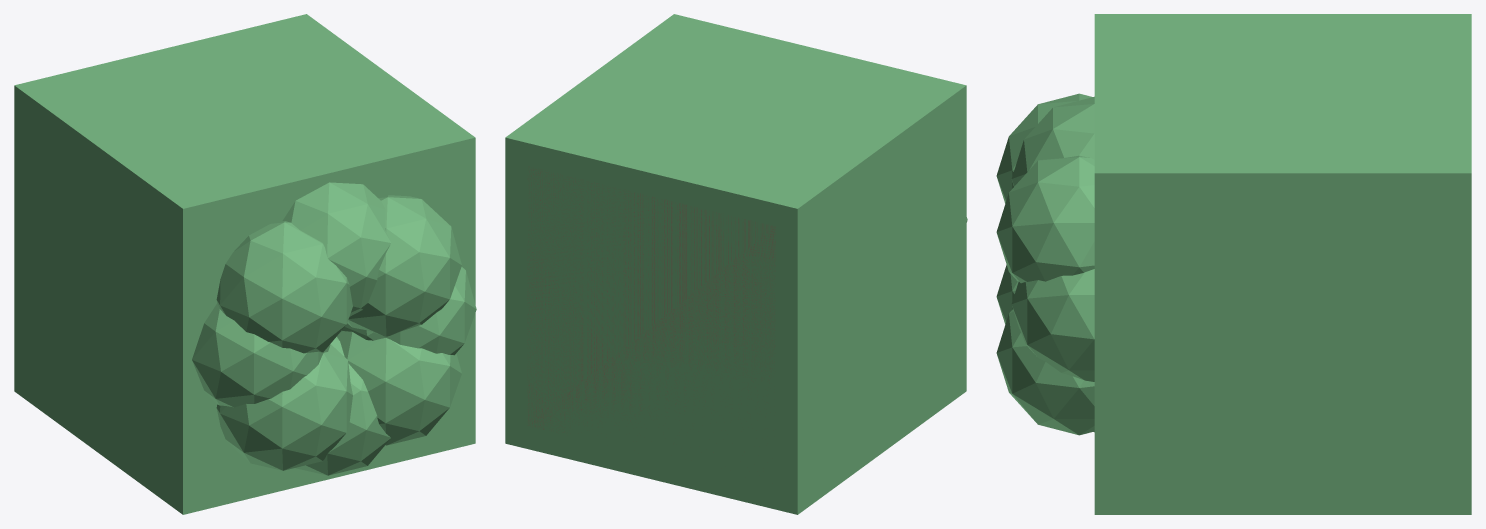
Rendered from 54_whisper_canopy.glb.
3 renders of one model, left to right at view 1: azimuth 30°, elevation 25°; view 2: azimuth 150°, elevation 25°; view 3: azimuth 270°, elevation 25°, orthographic. The views are drawn at different scales.
Visible parts, largest first — view 1: Core, Leaf_3, Leaf_5, Leaf_1, Leaf_7, Leaf_4, Leaf_2, Leaf_6, Leaf_0; view 2: Core, Soil; view 3: Core, Leaf_1, Leaf_0, Leaf_7, Leaf_2, Leaf_3, Leaf_5.
Boxes of the visible parts, x1,y1,x2,y2 form: Core: (14, 14, 475, 514); Leaf_3: (216, 221, 352, 353); Leaf_5: (216, 344, 352, 470); Leaf_1: (347, 195, 461, 336); Leaf_7: (336, 331, 461, 445); Leaf_4: (192, 303, 330, 407); Leaf_2: (282, 182, 390, 316); Leaf_6: (295, 337, 390, 475); Leaf_0: (341, 267, 476, 355); Core: (505, 14, 966, 514); Soil: (527, 166, 775, 452); Core: (1094, 14, 1471, 514); Leaf_1: (996, 155, 1094, 283); Leaf_0: (1011, 269, 1094, 381); Leaf_7: (996, 309, 1094, 435); Leaf_2: (1011, 96, 1094, 186); Leaf_3: (996, 93, 1092, 203); Leaf_5: (996, 265, 1018, 324).
Size of the model in its own units: 1 by 1 by 1.26.
